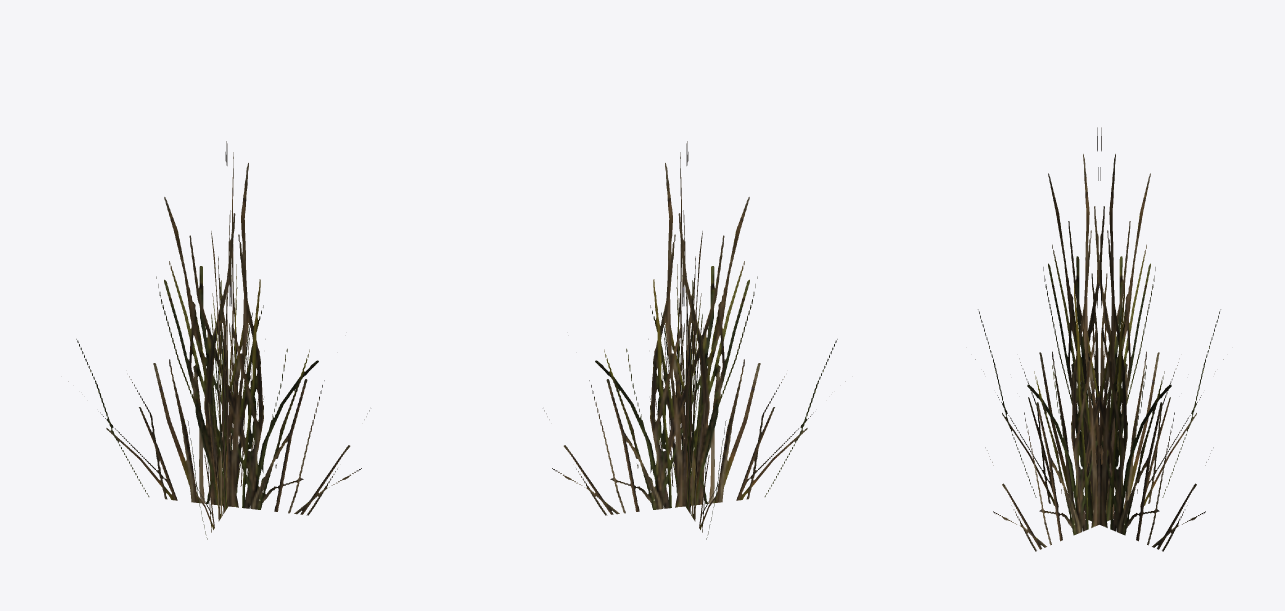
Rendered from Grass_Short.fbx.
3 renders of one model, left to right at view 1: azimuth 30°, elevation 25°; view 2: azimuth 150°, elevation 25°; view 3: azimuth 270°, elevation 25°, orthographic. The views are drawn at different scales.
Parts seen in each view (by area): view 1: Grama; view 2: Grama; view 3: Grama.
Part boxes in pixels (x1,y1,x2,y2): Grama: (68,141,369,539); Grama: (544,141,845,539); Grama: (975,127,1223,551).
Size of the model in its own units: 55.83 by 78.96 by 55.83.
